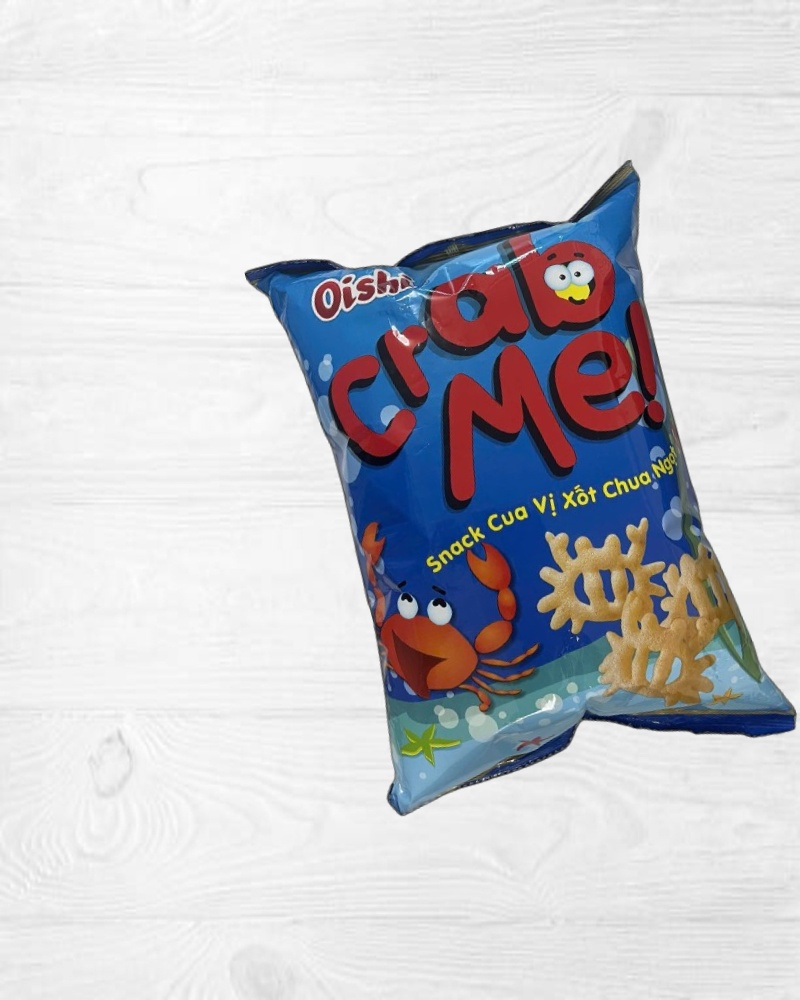Snack cua: (243, 156, 799, 830)
